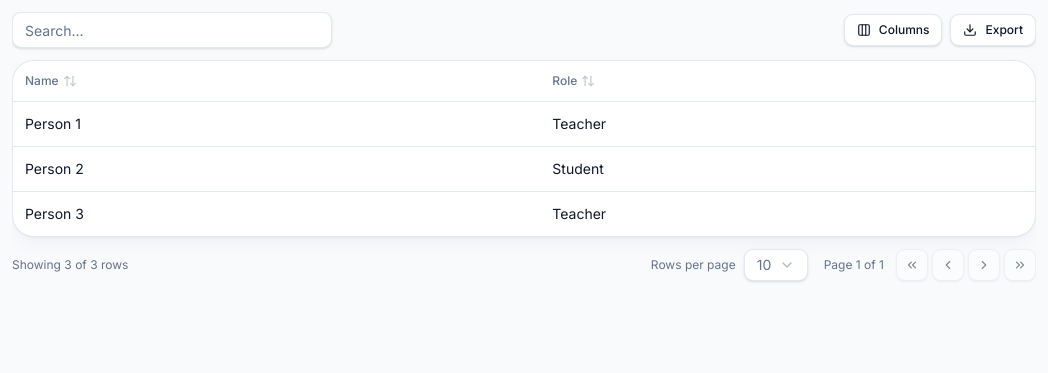
Test: DataTable — global filter search › shows the empty state when the search matches nothing
Type "nonexistent-person-zzz" into the field with placeholder "Search...".
click(172, 30); type("nonexistent-person-zzz")  # box [12, 12, 332, 48]
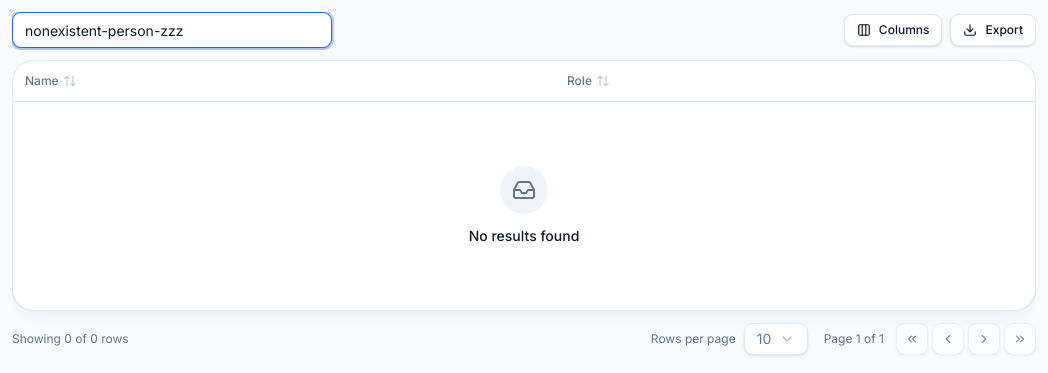
Now the text "No results found" is shown, box [469, 226, 579, 246]
